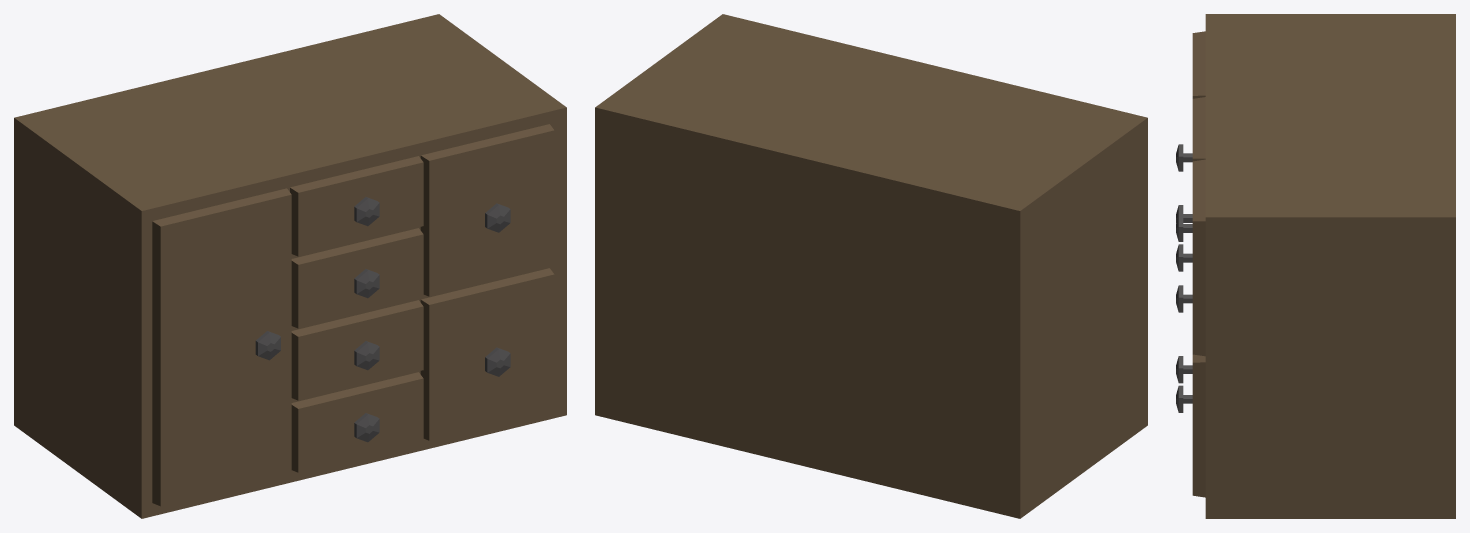
The model's file is kingdom_SM_Prop_Cabinet_Alchemy_01_Preset.gltf.
3 views of the same model, side by side, from view 1: azimuth 30°, elevation 25°; view 2: azimuth 150°, elevation 25°; view 3: azimuth 270°, elevation 25° (orthographic). The views are drawn at different scales.
Parts seen in each view (by area): view 1: SM_Prop_Cabinet_Alchemy_01_Preset; view 2: SM_Prop_Cabinet_Alchemy_01_Preset; view 3: SM_Prop_Cabinet_Alchemy_01_Preset.
Boxes of the visible parts, left/top/right/bottom form: SM_Prop_Cabinet_Alchemy_01_Preset: left=14, top=14, right=566, bottom=518; SM_Prop_Cabinet_Alchemy_01_Preset: left=595, top=14, right=1147, bottom=518; SM_Prop_Cabinet_Alchemy_01_Preset: left=1176, top=14, right=1455, bottom=518.
Size of the model in its own units: 0.8 by 0.5536 by 0.4654.
Materials: 1 (1 with a texture image).
